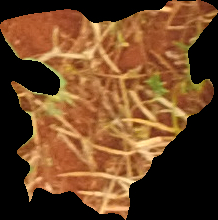soil: (3, 3, 215, 216)
